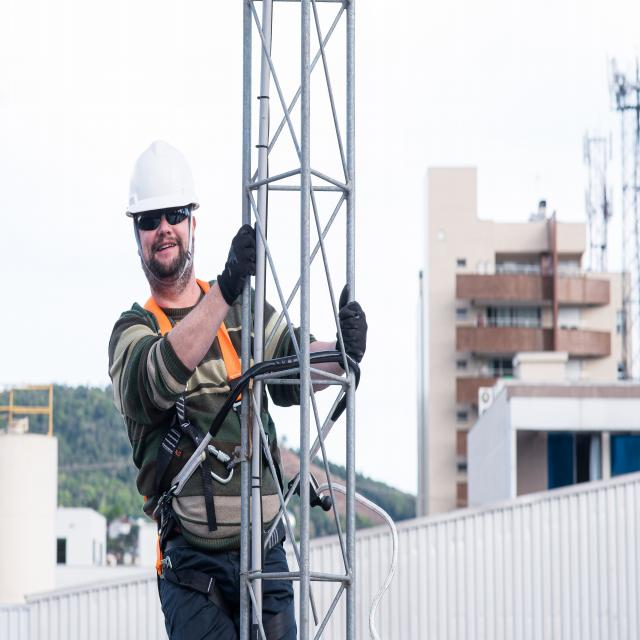capacete: (123, 134, 202, 222)
corda de vida: (130, 272, 299, 632)
luva: (214, 219, 264, 312), (332, 280, 369, 372)
